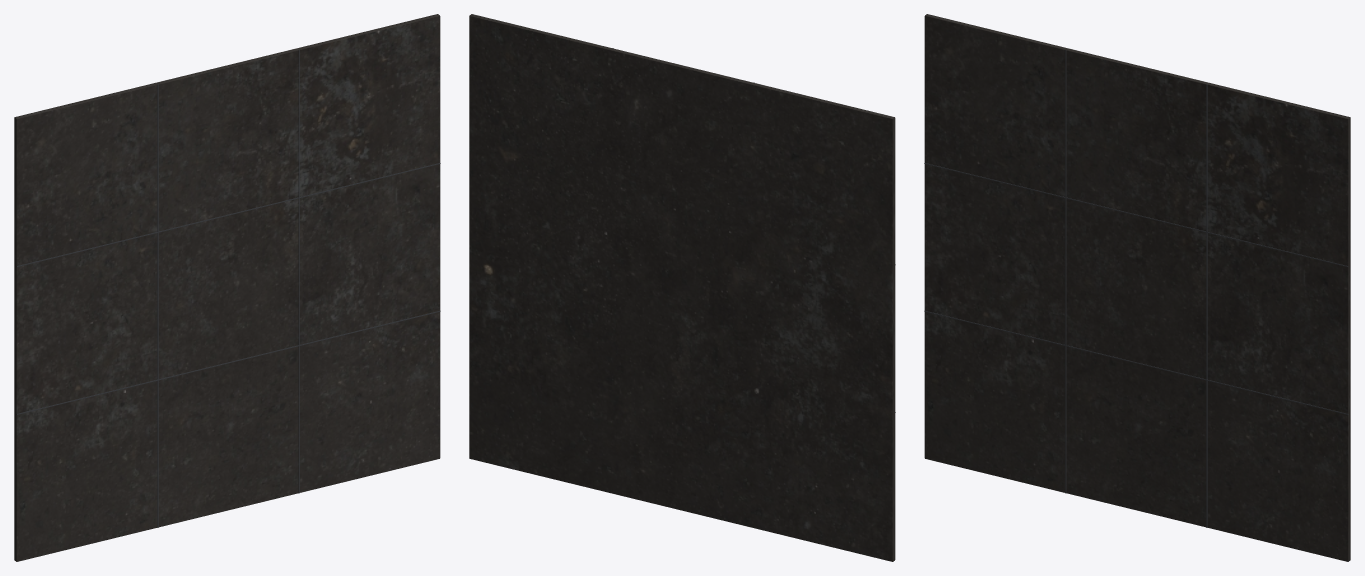
Rendered from server_rack_floorpatch.glb.
3 views of the same model, side by side, from view 1: azimuth 30°, elevation 25°; view 2: azimuth 150°, elevation 25°; view 3: azimuth 330°, elevation 25° (orthographic).
Visible parts, largest first — view 1: floor_tile, seam_ns-1, seam_ns1, seam_ew-1, seam_ew1; view 2: floor_tile; view 3: floor_tile, seam_ns-1, seam_ns1, seam_ew-1, seam_ew1.
Boxes of the visible parts, bbox=[...] form: floor_tile: bbox=[14, 14, 440, 561]; seam_ns-1: bbox=[157, 84, 158, 527]; seam_ns1: bbox=[298, 50, 299, 493]; seam_ew-1: bbox=[16, 310, 440, 414]; seam_ew1: bbox=[16, 163, 440, 266]; floor_tile: bbox=[469, 14, 895, 561]; floor_tile: bbox=[924, 14, 1350, 561]; seam_ns-1: bbox=[1065, 50, 1066, 493]; seam_ns1: bbox=[1206, 84, 1207, 527]; seam_ew-1: bbox=[924, 310, 1348, 414]; seam_ew1: bbox=[924, 163, 1348, 266].
Size of the model in its own units: 3 by 3 by 0.0324.
Materials: 2 (1 with a texture image).
